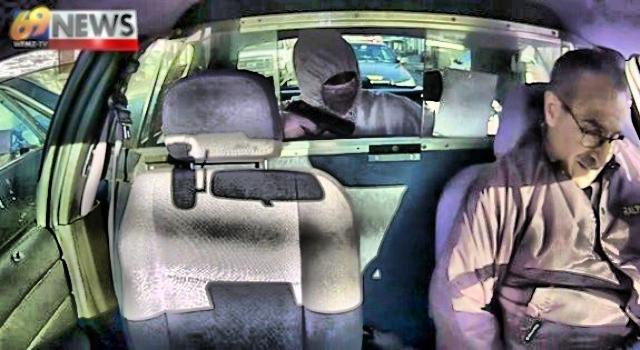pistol: (272, 98, 352, 140)
